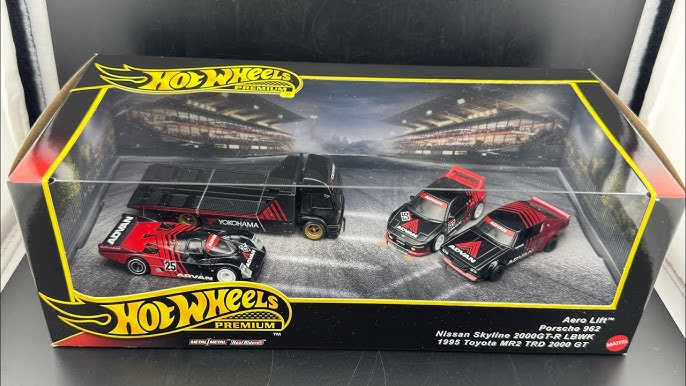Car: (124, 134, 351, 244), (434, 179, 583, 300), (377, 153, 501, 269), (97, 211, 269, 286)
